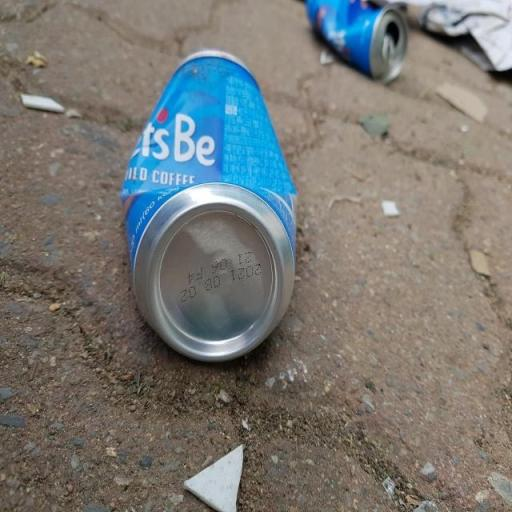metal: (110, 24, 324, 406)
